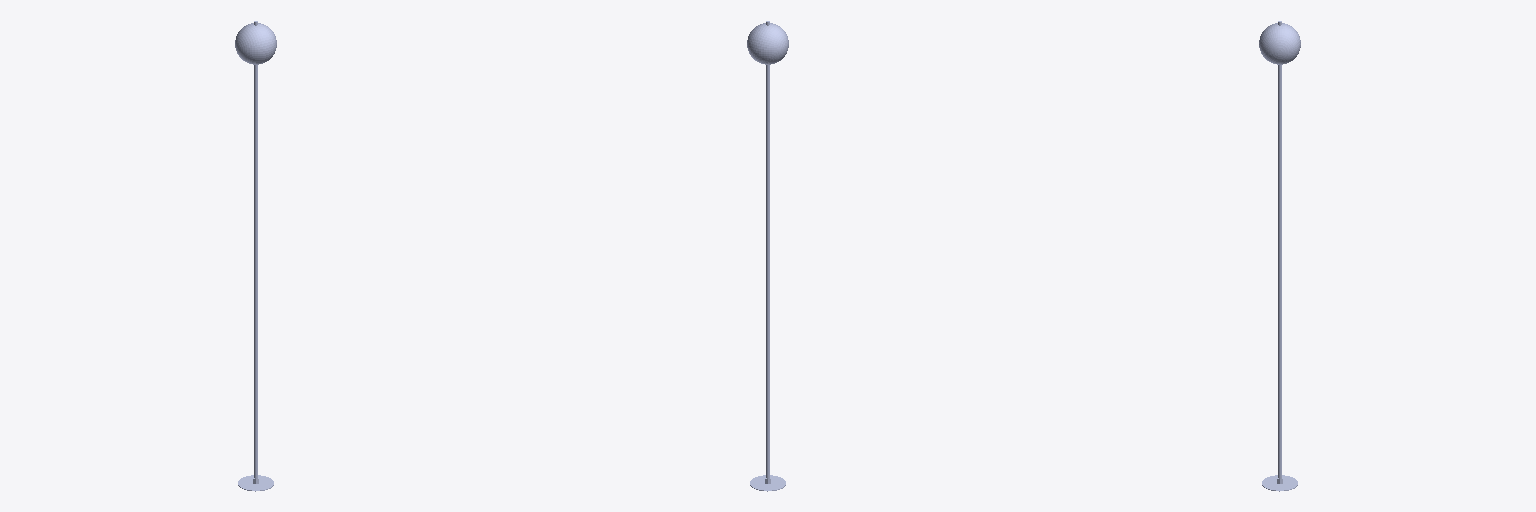
The robot description file, URDF, robot "niot_flower_yellow":
<robot
  name="niot_flower_yellow">
  <link
    name="base_link">
    <inertial>
      <origin
        xyz="0.018017 2.485 0.1911"
        rpy="0 0 0" />
      <mass
        value="7.3927" />
      <inertia
        ixx="2.4511"
        ixy="-2.3456E-18"
        ixz="-3.823E-34"
        iyy="9.4672E-33"
        iyz="-2.9962E-17"
        izz="2.4511" />
    </inertial>
    <visual>
      <origin
        xyz="0 0 0"
        rpy="0 0 0" />
      <geometry>
        <mesh
          filename="package://niot_flower_yellow/meshes/base_link.STL" />
      </geometry>
      <material
        name="">
        <color
          rgba="0.79216 0.81961 0.93333 1" />
      </material>
    </visual>
    <collision>
      <origin
        xyz="0 0 0"
        rpy="0 0 0" />
      <geometry>
        <mesh
          filename="niot_flower_yellow/meshes/base_link.STL" />
      </geometry>
    </collision>
  </link>
  <gazebo reference="base_link">
    <material>Gazebo/Yellow</material>
  </gazebo>
  <gazebo>
    <static>true</static>
  </gazebo>
</robot>

--- Render facts (derived) ---
The picture shows the robot from 3 angles, left to right: view 1: azimuth 30°, elevation 25°; view 2: azimuth 150°, elevation 25°; view 3: azimuth 270°, elevation 25°; orthographic projection.
Model niot_flower_yellow with 1 links and 0 joints (none), rooted at base_link, posed all joints at 0.
Visible links, largest first — view 1: base_link; view 2: base_link; view 3: base_link.
Boxes of the visible links, box(x1,y1,x2,y2) form: base_link: box(235, 21, 276, 491); base_link: box(747, 21, 788, 491); base_link: box(1259, 21, 1300, 491).
Size in the robot's own frame: 0.2286 by 0.228 by 2.79 metres.
1 mesh visuals loaded from 1 distinct referenced files (1 binary STL).
